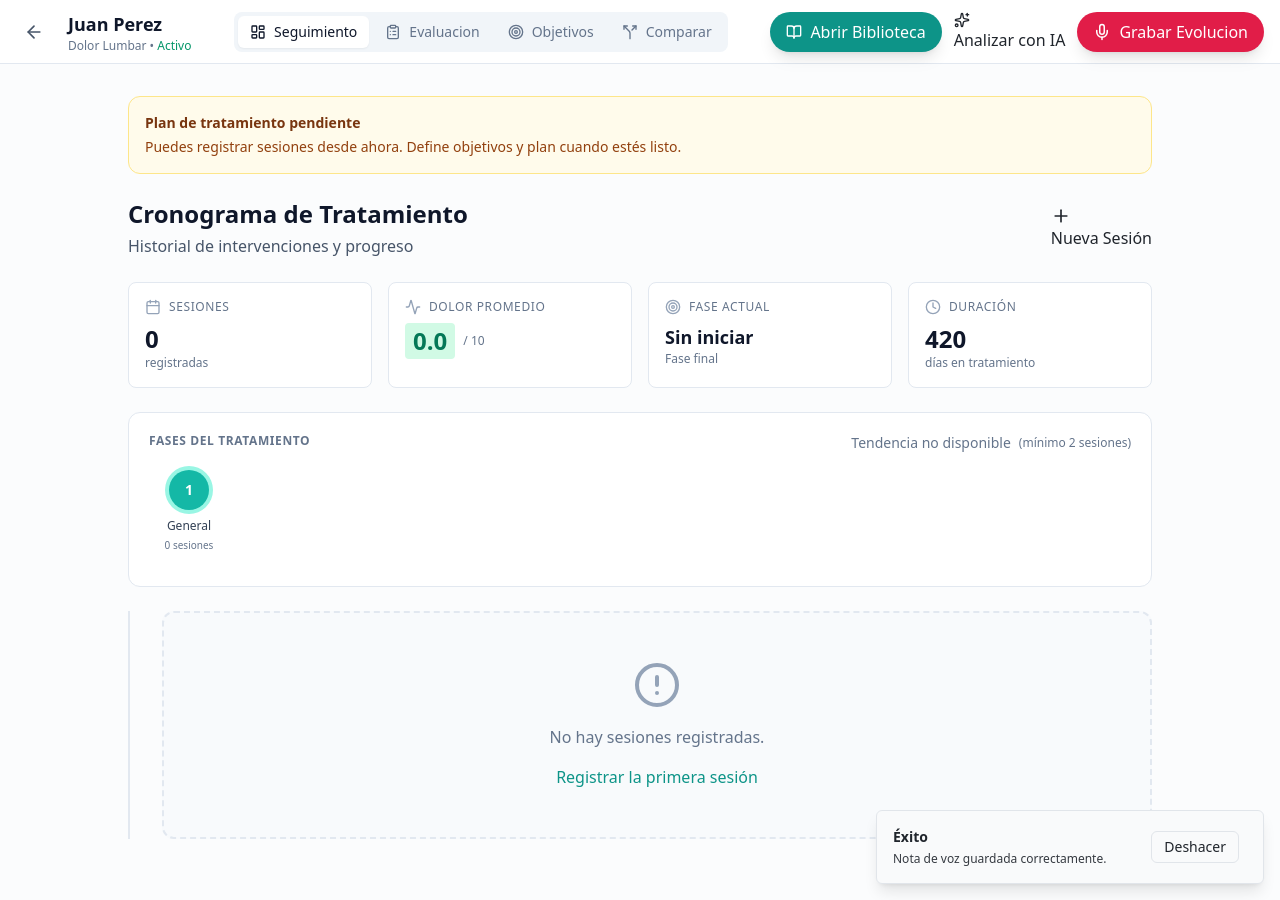
Scenario: ZeroFrictionVoiceFlow Integration › shows error toast when microphone permission is denied
This screenshot has width=1280, height=900.
Click the button "Grabar Evolucion".
click(1171, 32)  # box left=1077, top=12, right=1264, bottom=52
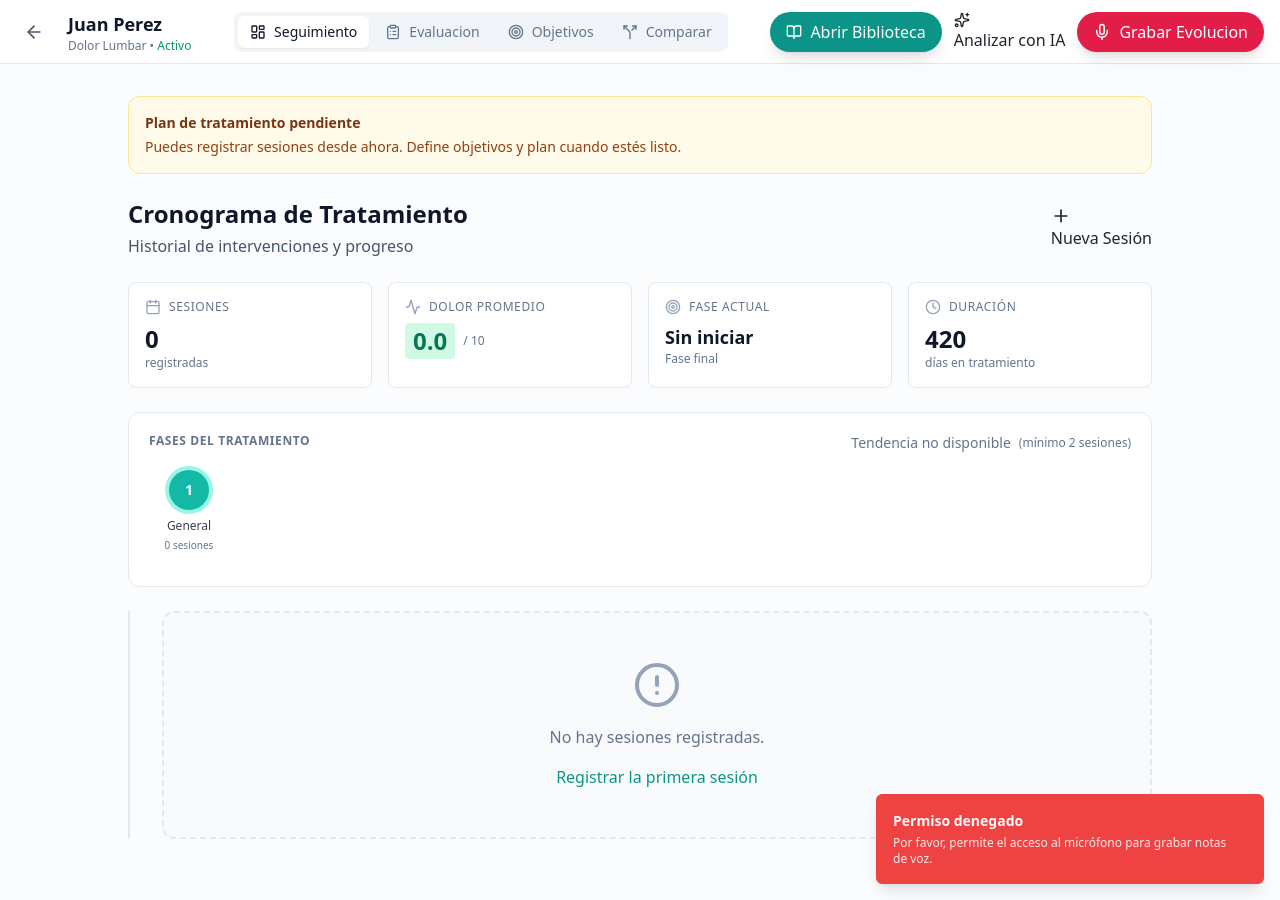
expect the text "permite el acceso al micrófono" is shown: met, box left=893, top=834, right=1226, bottom=867
